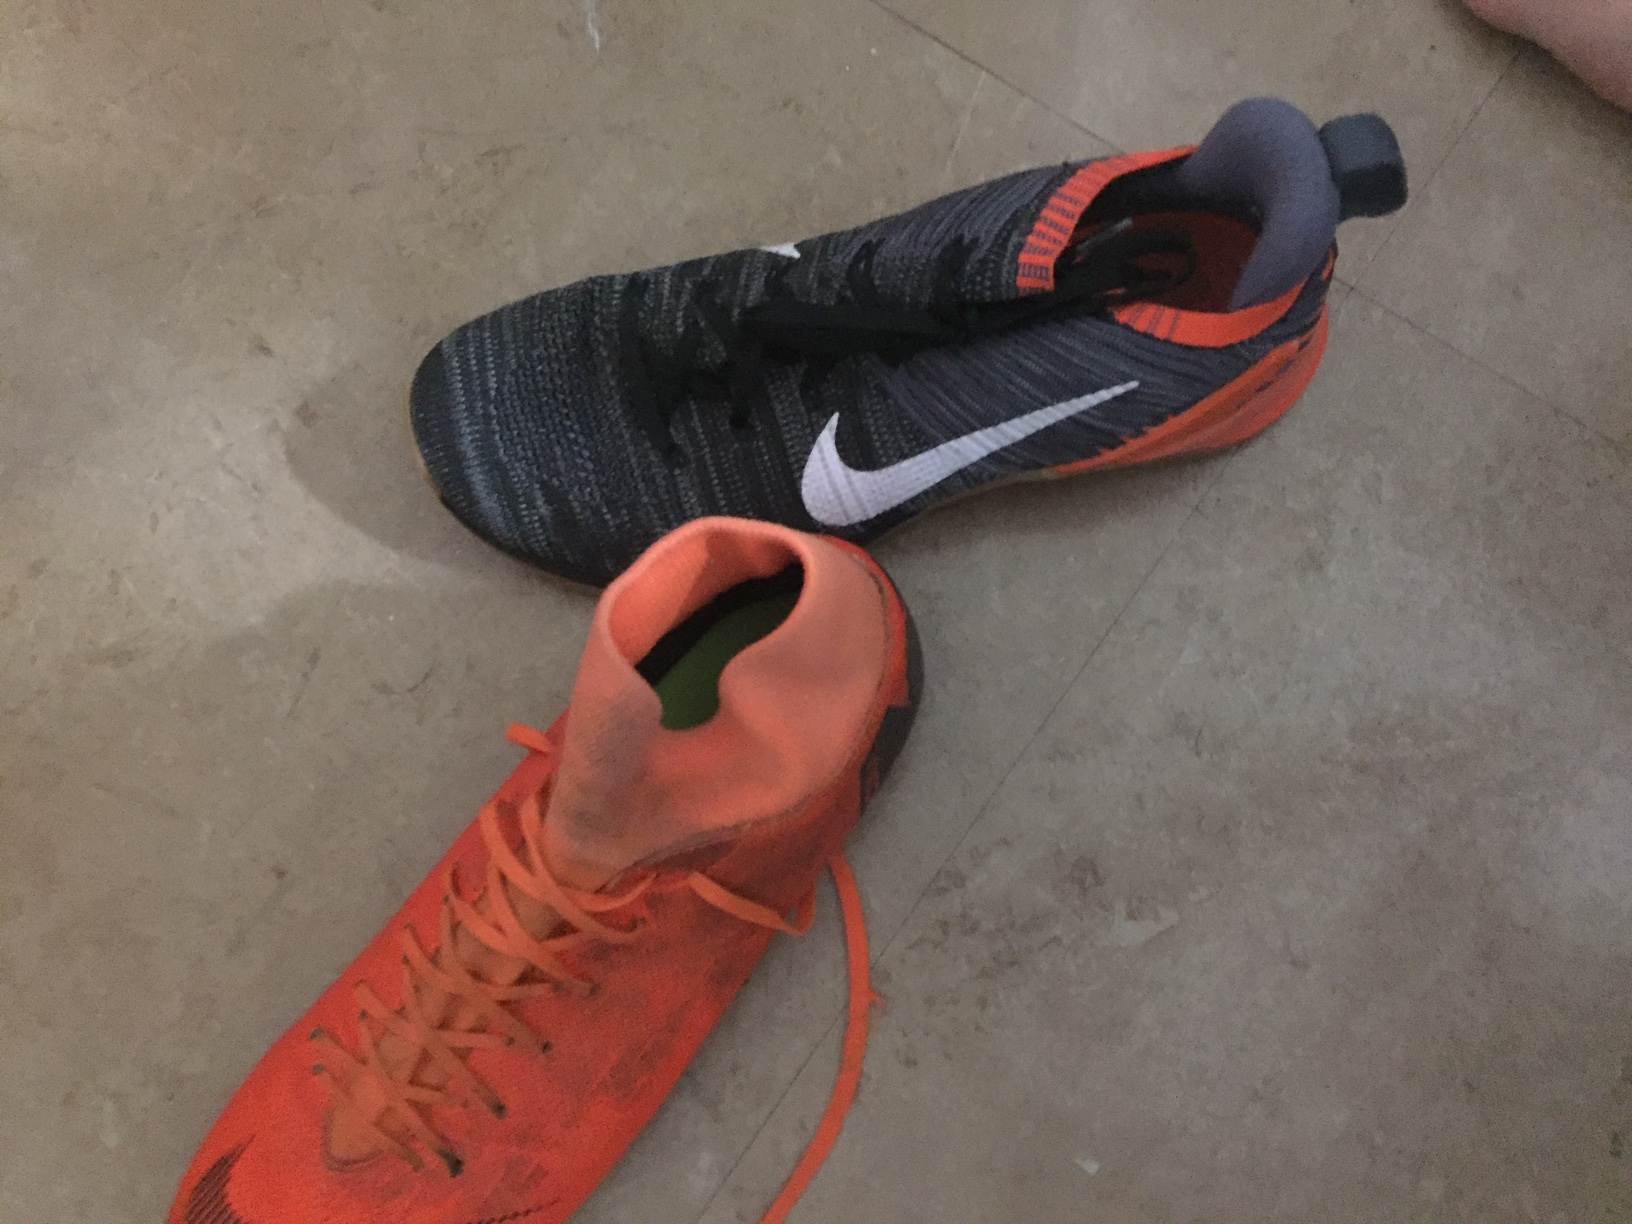car: (387, 93, 1417, 588)
